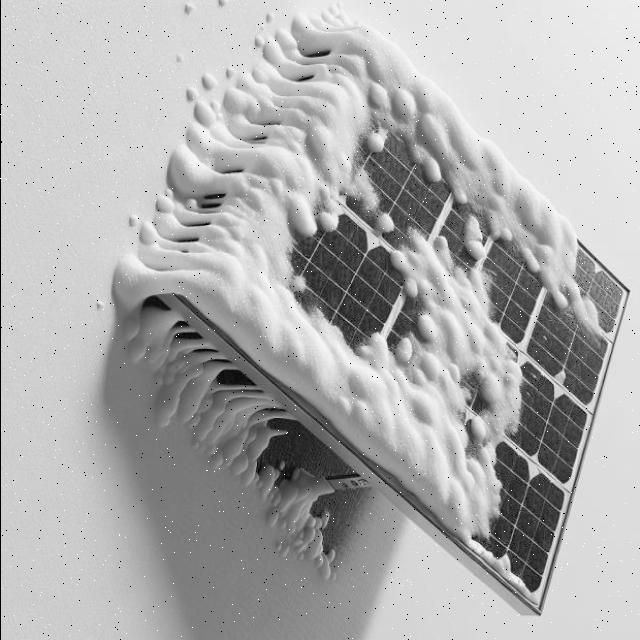Anomaly Solar Panel: (152, 20, 640, 606)
Snow: (154, 23, 640, 601)
